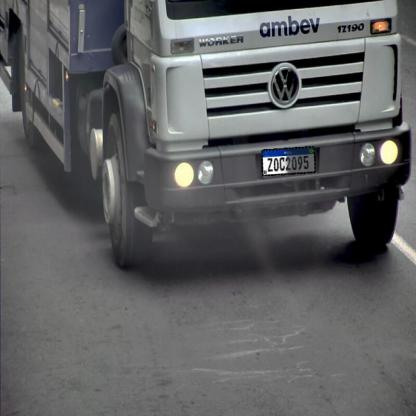PlacaM: (262, 146, 316, 176)
